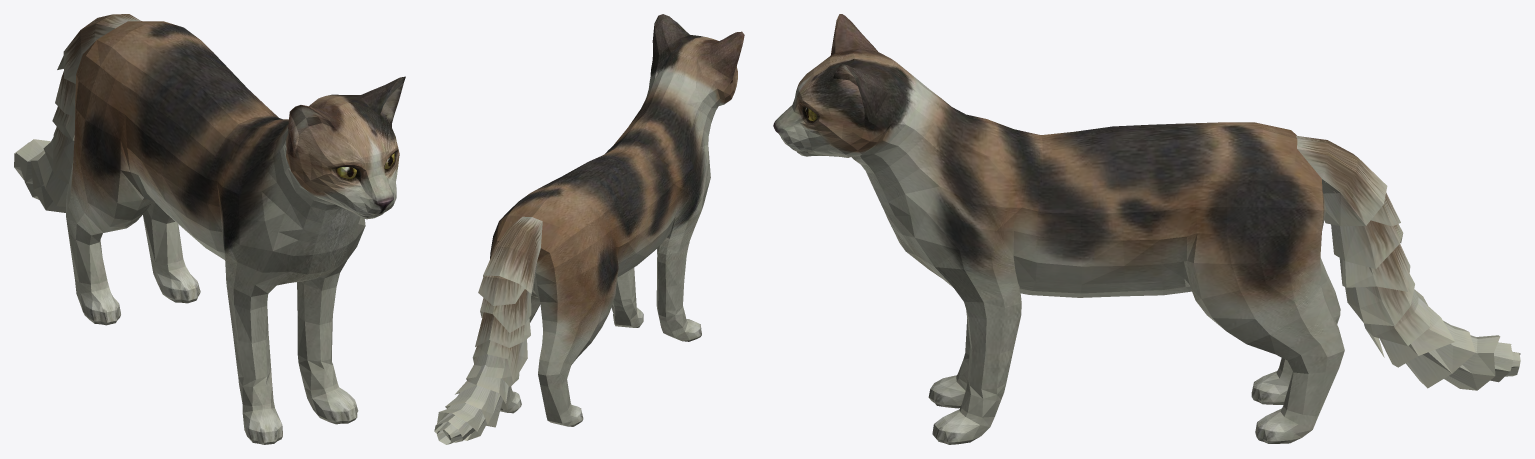
Rendered from cat.fbx.
3 views of the same model, side by side, from view 1: azimuth 30°, elevation 25°; view 2: azimuth 150°, elevation 25°; view 3: azimuth 270°, elevation 25° (orthographic). The views are drawn at different scales.
Parts seen in each view (by area): view 1: Object_66D0F3B7.jpg, Object_CFB4CB77.jpg, Object_49EEE8A5.jpg; view 2: Object_66D0F3B7.jpg, Object_49EEE8A5.jpg, Object_CFB4CB77.jpg; view 3: Object_66D0F3B7.jpg, Object_49EEE8A5.jpg, Object_CFB4CB77.jpg.
Part boxes in pixels (x1,y1,x2,y2): Object_66D0F3B7.jpg: [66, 21, 394, 444]; Object_CFB4CB77.jpg: [284, 76, 405, 219]; Object_49EEE8A5.jpg: [14, 14, 140, 212]; Object_66D0F3B7.jpg: [443, 77, 717, 440]; Object_49EEE8A5.jpg: [434, 216, 542, 444]; Object_CFB4CB77.jpg: [650, 14, 744, 107]; Object_66D0F3B7.jpg: [805, 82, 1344, 444]; Object_49EEE8A5.jpg: [1296, 135, 1520, 390]; Object_CFB4CB77.jpg: [773, 14, 922, 159].
Size of the model in its own units: 0.5303 by 1.4 by 2.5.
Materials: 3 (3 with a texture image).
